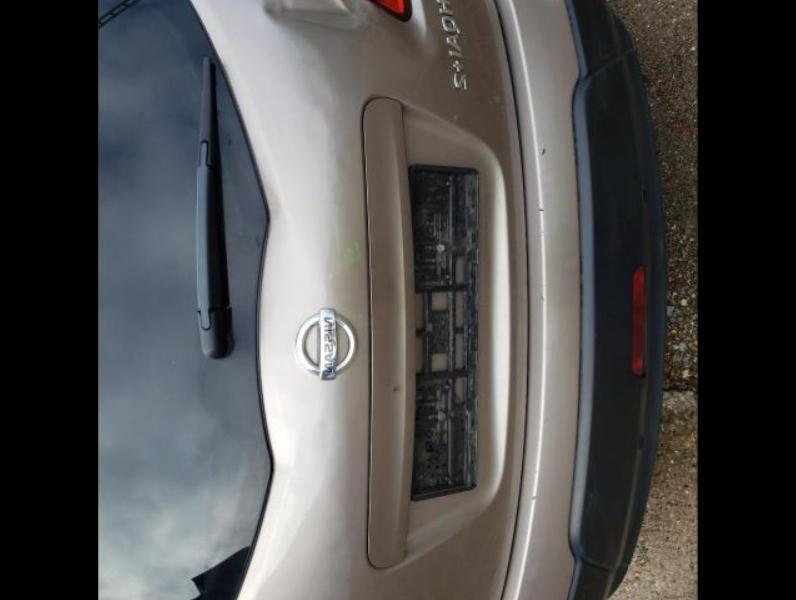Dent: (239, 0, 376, 36)
